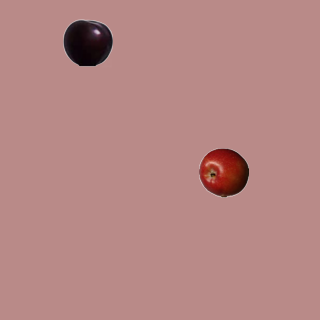Apple Braeburn: (198, 147, 248, 197)
Cherry Wax Black: (62, 17, 112, 67)
